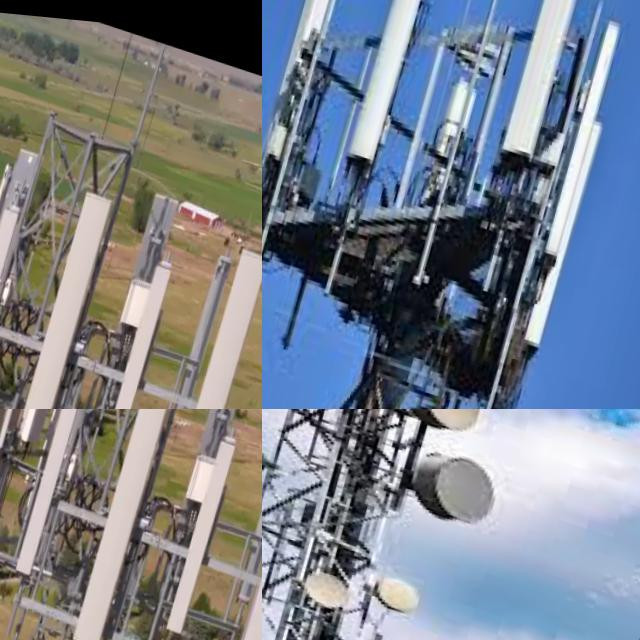GSM Antenna: (8, 167, 119, 409), (72, 409, 184, 640), (537, 0, 631, 267), (522, 111, 609, 375), (495, 0, 608, 177), (162, 411, 248, 640), (159, 219, 262, 409), (341, 0, 450, 172), (262, 0, 345, 222), (12, 409, 93, 585), (0, 130, 47, 408), (164, 232, 235, 409), (101, 246, 176, 409), (222, 409, 262, 640), (0, 409, 55, 542), (235, 409, 262, 597)
Microwave Antenna: (411, 436, 510, 527), (302, 559, 362, 614), (377, 563, 430, 610), (398, 409, 500, 433)
